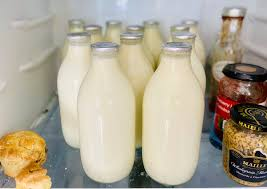milk: (81, 42, 133, 181), (144, 47, 199, 168), (115, 26, 161, 144), (62, 30, 98, 148)
